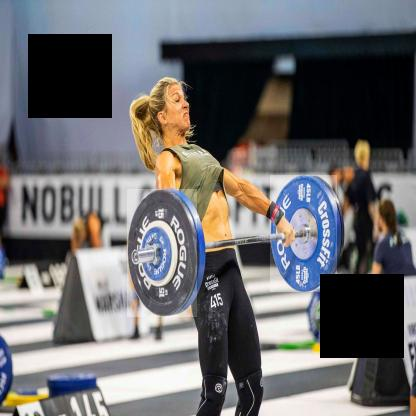barbell: (128, 190, 198, 318), (271, 176, 338, 293)
